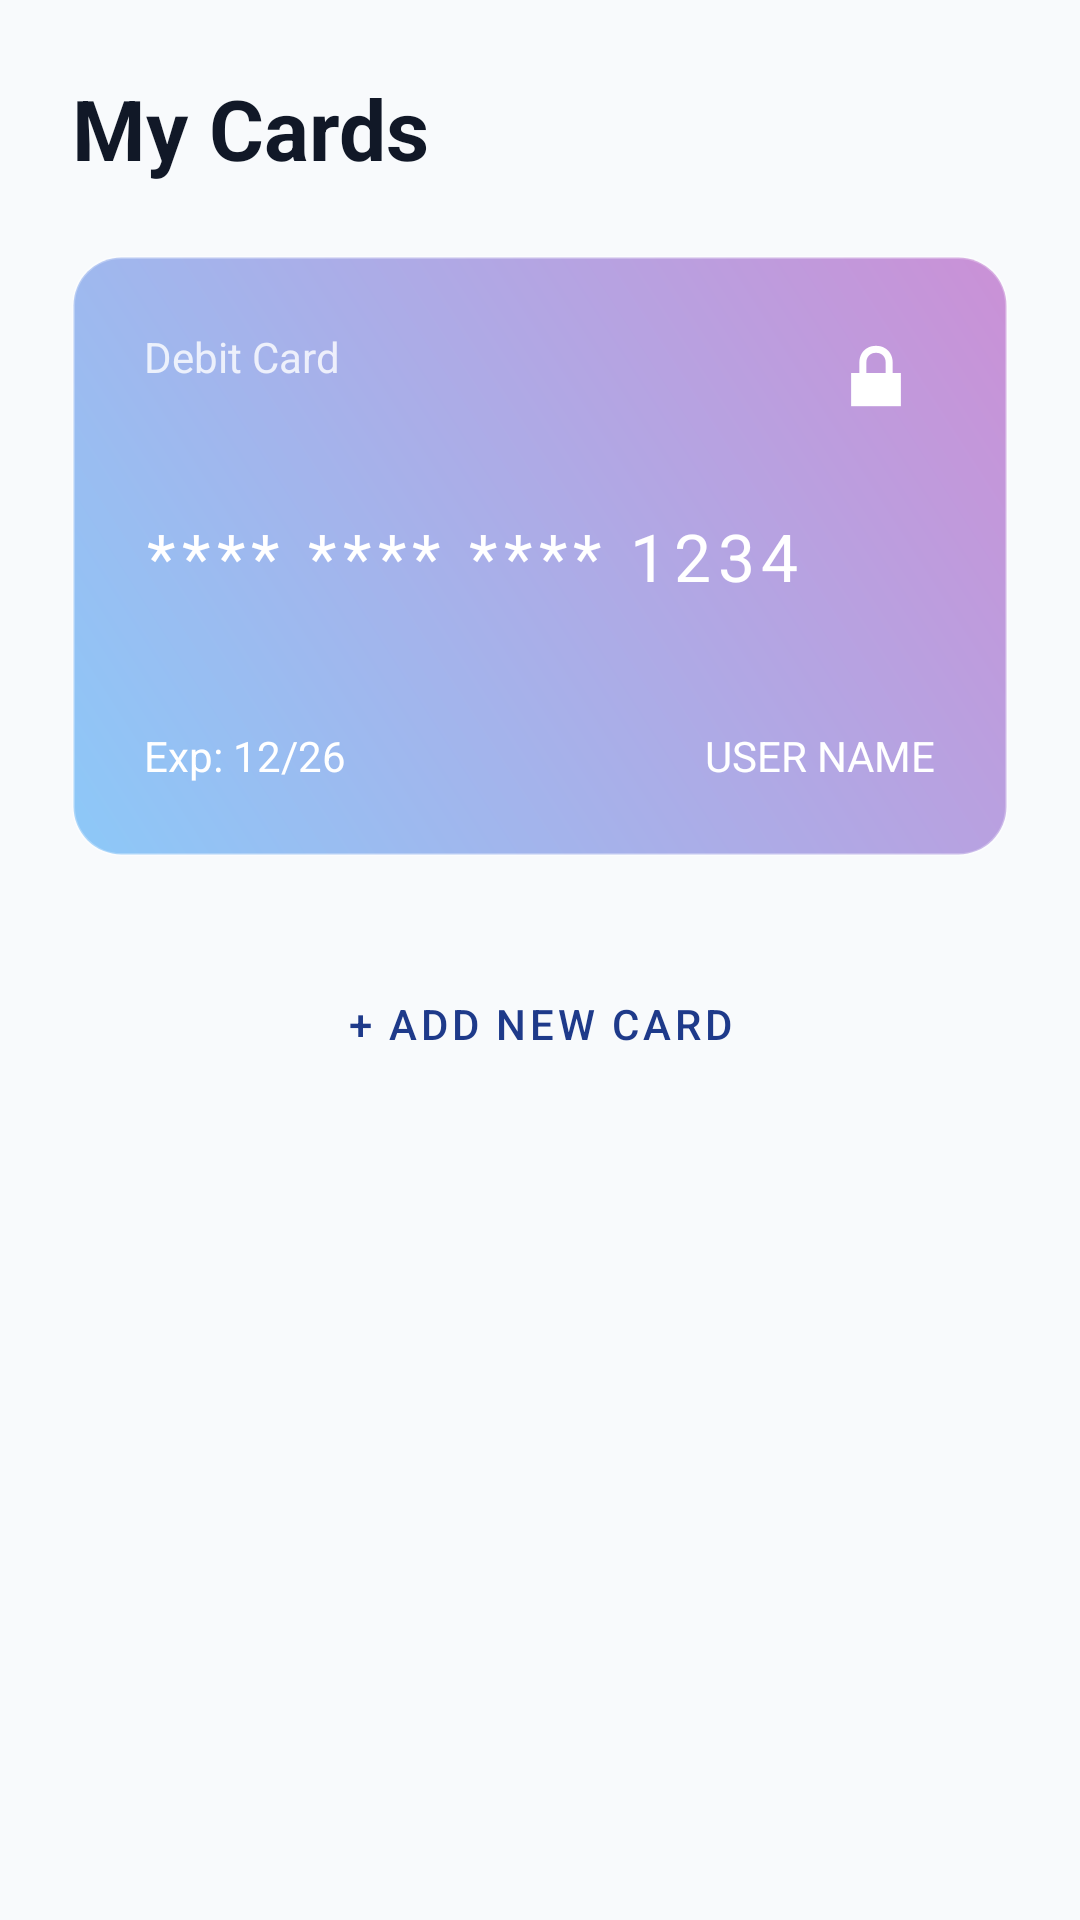

Icons on this 1080 × 1920 Android screen, each with the point to tap as [x,y]:
lock: [876,376]
